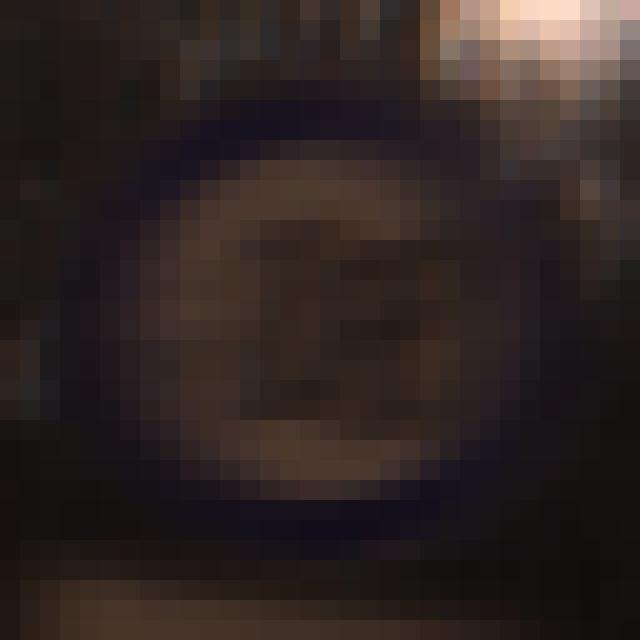SPEED-LIMIT-80: (153, 131, 538, 504)
